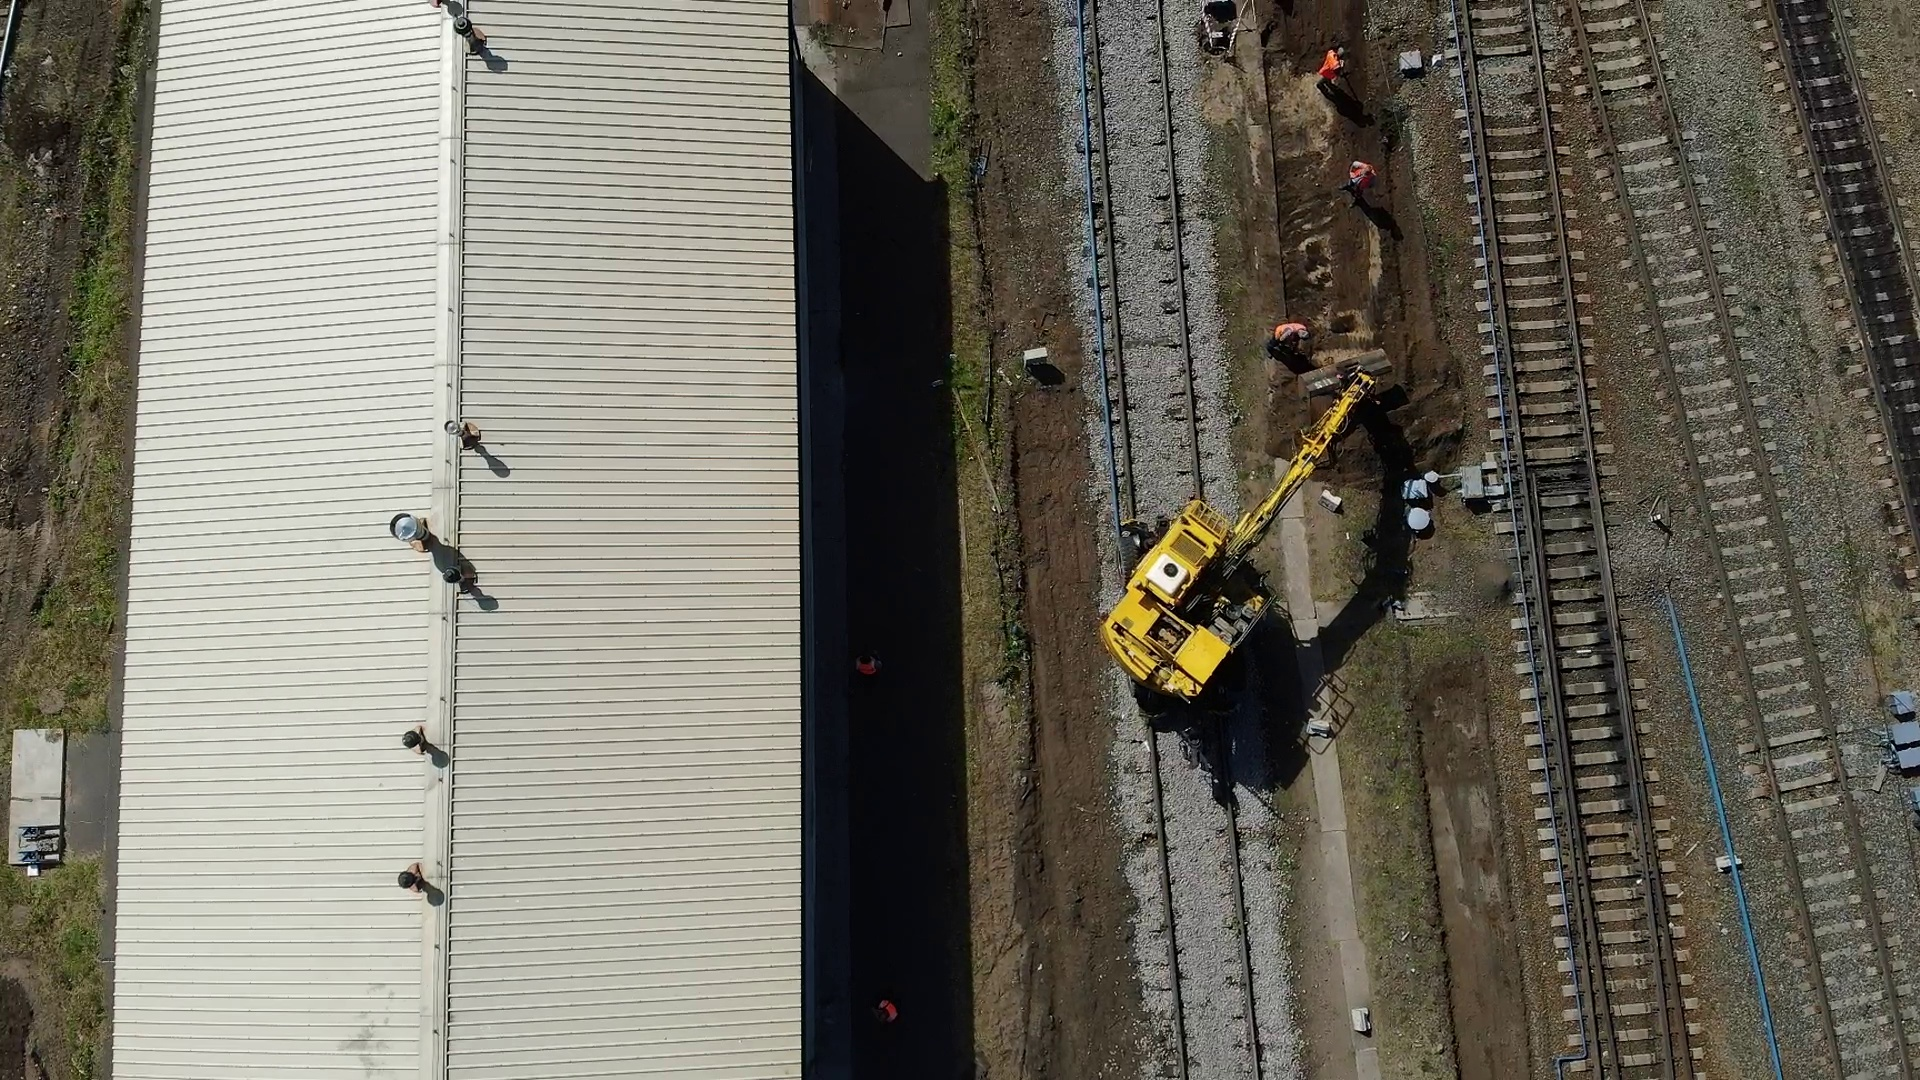kjtv: (1097, 442, 1315, 721)
